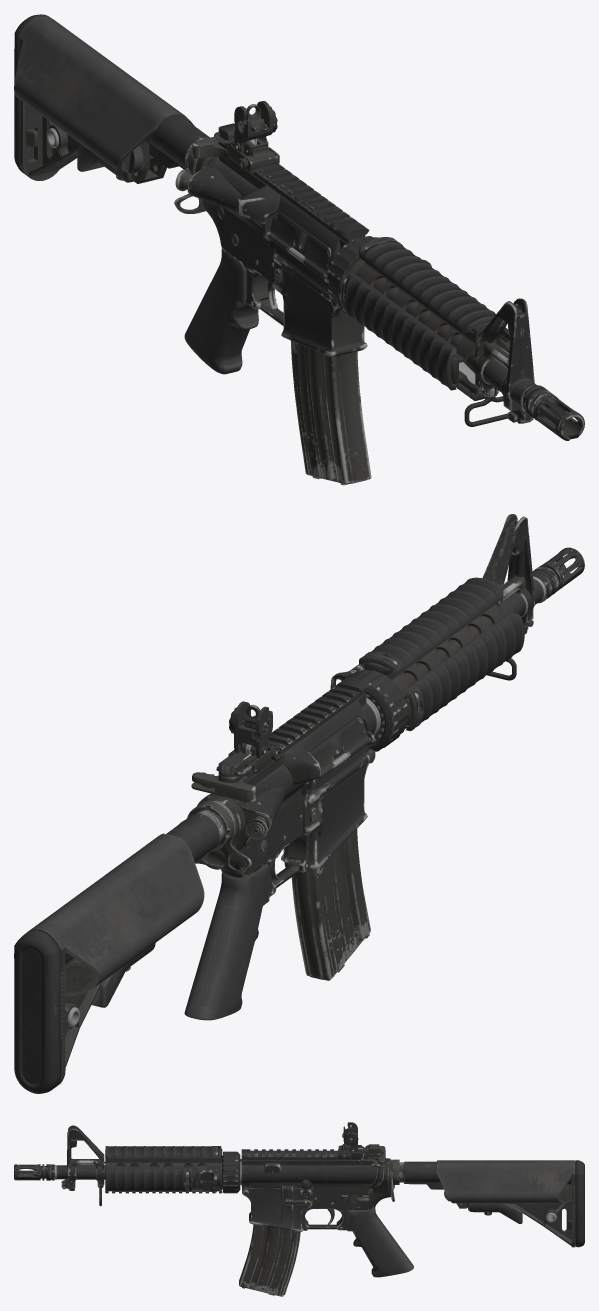
The picture shows the model from 3 angles, top to bottom: view 1: azimuth 30°, elevation 25°; view 2: azimuth 150°, elevation 25°; view 3: azimuth 270°, elevation 25°; orthographic projection. The views are drawn at different scales.
Parts seen in each view (by area): view 1: M4A4_CS2_weapon_rif_m4a4_0; view 2: M4A4_CS2_weapon_rif_m4a4_0; view 3: M4A4_CS2_weapon_rif_m4a4_0.
Part boxes in pixels (x1,y1,x2,y2): M4A4_CS2_weapon_rif_m4a4_0: (14, 14, 584, 485); M4A4_CS2_weapon_rif_m4a4_0: (14, 514, 584, 1093); M4A4_CS2_weapon_rif_m4a4_0: (14, 1122, 584, 1296).
Size of the model in its own units: 0.0913 by 0.292 by 0.8964.
1 material, 1 textured.
